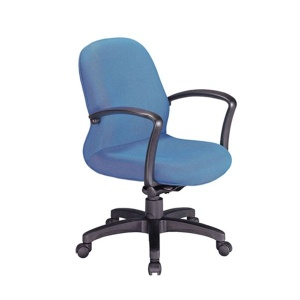chair: (75, 37, 236, 274)
